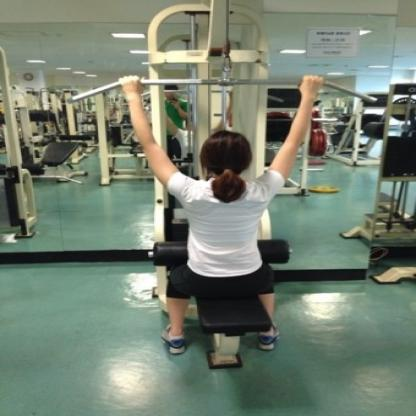Lat Pull Down: (49, 0, 391, 375)
